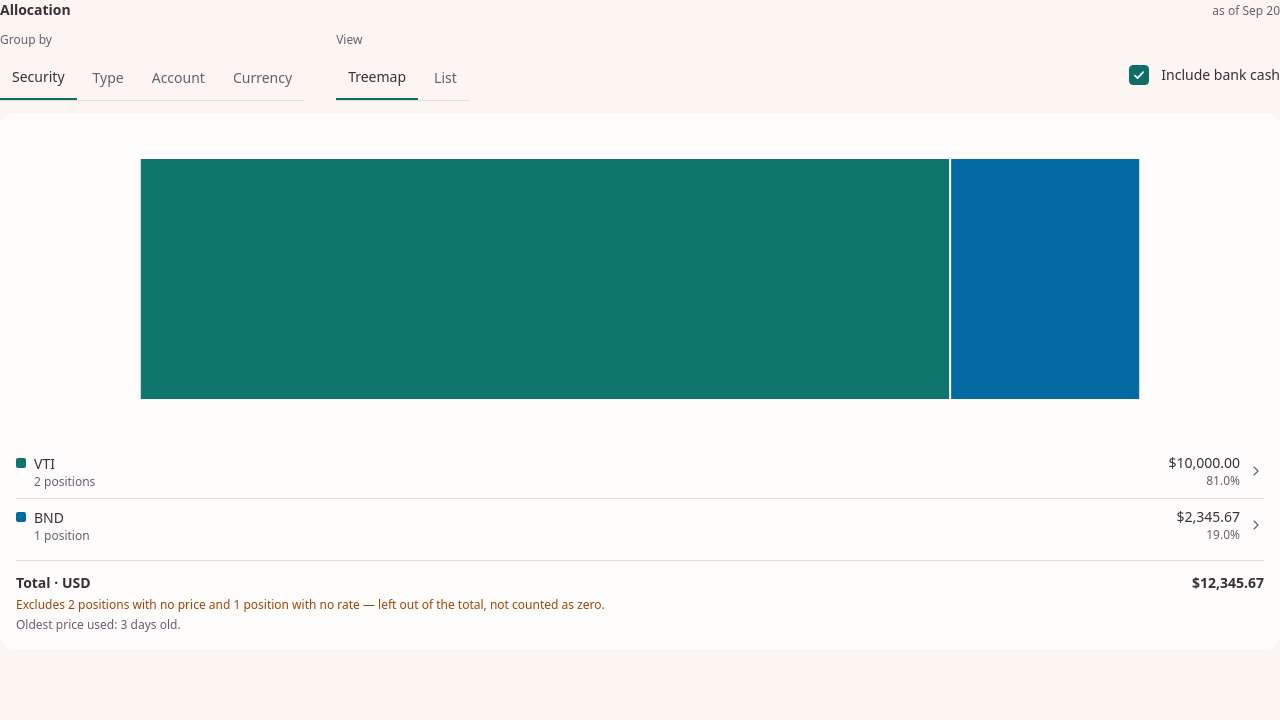
Scenario: <Allocations /> › opens a detail sheet naming the row's value, share and source accounts
What coordinates should you click on to do the following:
click the button with test id "allocation-row-sec-vti"
I would click on:
 (70, 482)
Its box is left=16, top=445, right=1264, bottom=498.
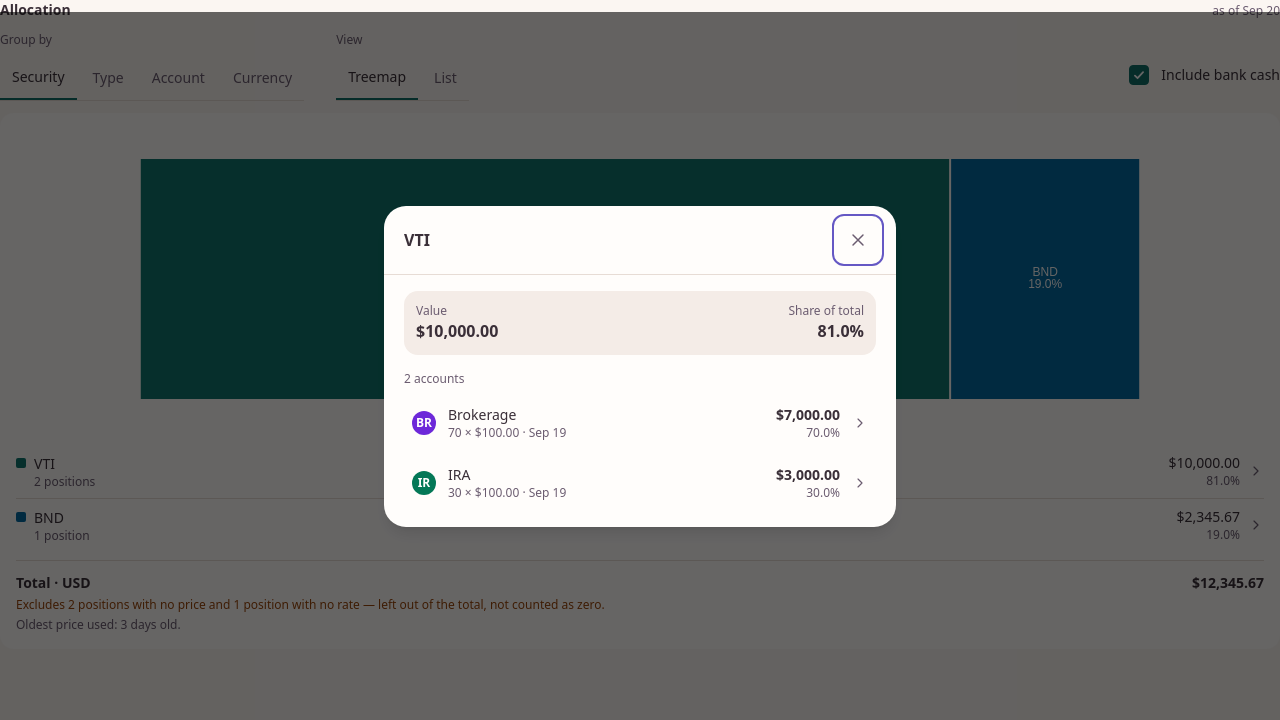
Expected: the text with test id "allocation-detail-percent" reads "81.0%", left=818, top=320, right=864, bottom=342
Expected: the list with test id "allocation-detail-sources" shows "Brokerage", left=404, top=394, right=876, bottom=450
Expected: the list with test id "allocation-detail-sources" shows "IRA", left=404, top=454, right=876, bottom=510
